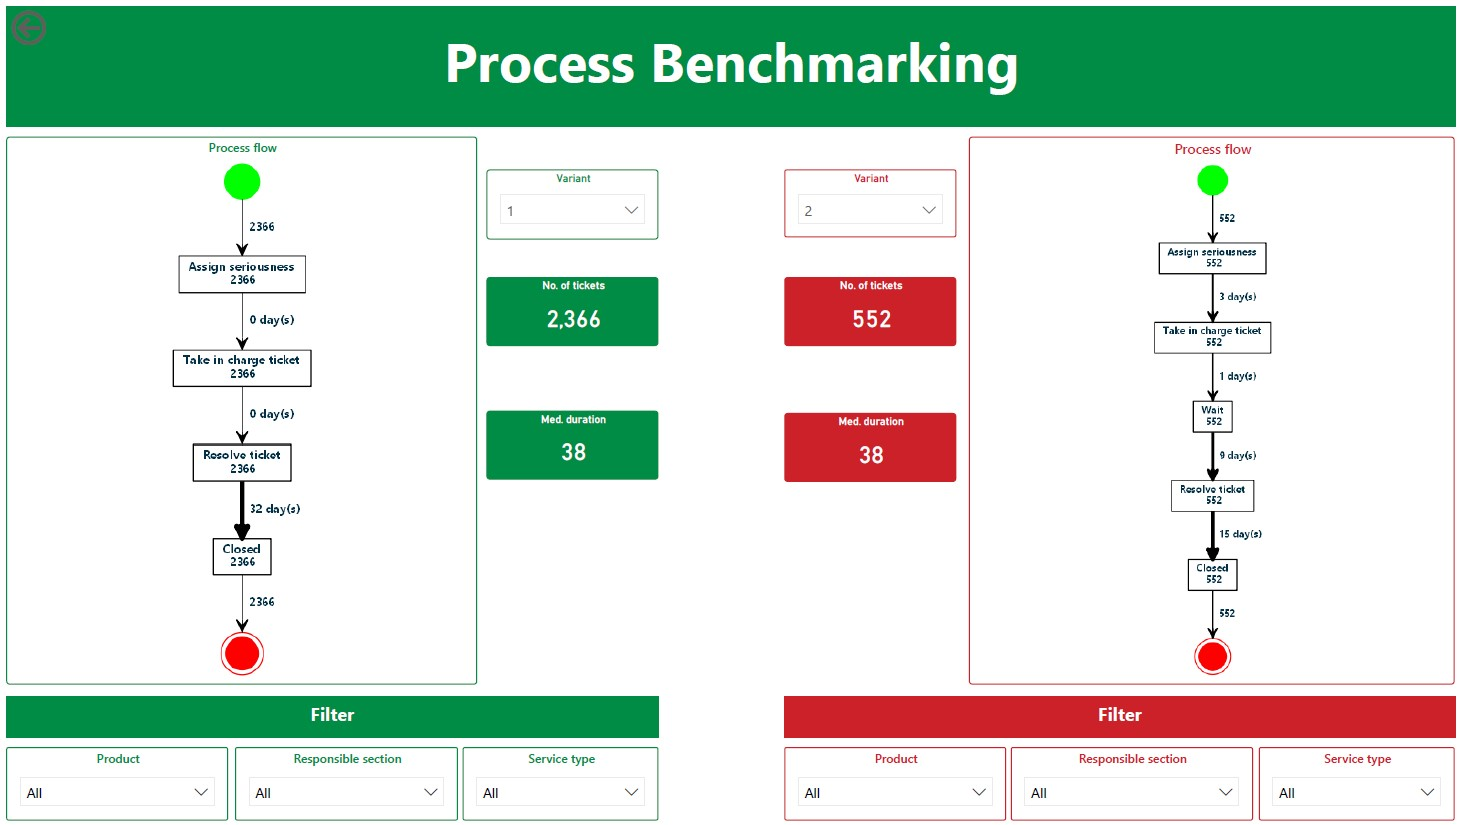

This screenshot's page, from the dashboard's own definition file:
{"tool":"powerbi","page":{"name":"Process benchmarking","canvas":[1280,720],"ordinal":4},"visuals":[{"type":"shape","box":[0,0.9,1280,106],"z":0},{"type":"textbox","box":[299.1,11.2,682.7,86.2],"z":1000},{"type":"card","title":"No. of tickets","fields":{"Values":["CountNonNull(Distinct_log (2).Case ID)"]},"box":[424.2,239.6,151.6,61.1],"z":2000},{"type":"card","title":"Med. duration","fields":{"Values":["Median(Distinct_log (2).Case_Duration_days)"]},"box":[424.2,319,151.6,61.1],"z":3000},{"type":"pythonVisual","title":"Process flow","fields":{"Values":["Helpdesk_log.Case ID","Helpdesk_log.Complete Timestamp","Helpdesk_log.Activity","Helpdesk_log.Event_ID"]},"box":[0,116.5,416.4,483.3],"z":4000},{"type":"slicer","title":"Variant","fields":{"Values":["Distinct_log (2).Variants"]},"box":[424.2,145.5,151.6,61.1],"z":5000},{"type":"slicer","title":"Product","fields":{"Values":["Distinct_log (2).product"]},"box":[0,655.2,195.6,64.8],"z":6000},{"type":"slicer","title":"Responsible section","fields":{"Values":["Distinct_log (2).responsible_section"]},"box":[201.7,655.2,196.8,64.8],"z":7000},{"type":"slicer","title":"Service type","fields":{"Values":["Distinct_log (2).service_type"]},"box":[403.4,655.2,172.4,64.8],"z":8000},{"type":"actionButton","box":[0,0,100.1,39.7],"z":9000},{"type":"card","title":"No. of tickets","fields":{"Values":["CountNonNull(Distinct_log (2).Case ID)"]},"box":[687,239.6,151.6,61.1],"z":10000},{"type":"card","title":"Med. duration","fields":{"Values":["Median(Distinct_log (2).Case_Duration_days)"]},"box":[687,318.8,151.7,61.2],"z":11000},{"type":"pythonVisual","title":"Process flow","fields":{"Values":["Helpdesk_log.Case ID","Helpdesk_log.Complete Timestamp","Helpdesk_log.Activity","Helpdesk_log.Event_ID"]},"box":[850.1,116.5,428.8,483.3],"z":12000},{"type":"slicer","title":"Variant","fields":{"Values":["Distinct_log (2).Variants"]},"box":[687,145.5,151.6,59.9],"z":13000},{"type":"slicer","title":"Product","fields":{"Values":["Distinct_log (2).product"]},"box":[687,655.2,195.6,64.8],"z":14000},{"type":"slicer","title":"Responsible section","fields":{"Values":["Distinct_log (2).responsible_section"]},"box":[887.5,655.2,213.9,64.8],"z":15000},{"type":"slicer","title":"Service type","fields":{"Values":["Distinct_log (2).service_type"]},"box":[1106.3,655.2,172.4,64.8],"z":16000},{"type":"textbox","box":[0,610,575.8,36.7],"z":17000},{"type":"textbox","box":[687,610,592.9,36.7],"z":18000},{"type":"card","title":"FCR rate","fields":{"Values":["Helpdesk_log.FCR_rate"]},"box":[424.2,398.5,151.6,62.3],"z":19000},{"type":"card","title":"FCR rate","fields":{"Values":["Helpdesk_log.FCR_rate"]},"box":[687,398.5,151.6,62.3],"z":20000},{"type":"card","title":"SLA breach rate","fields":{"Values":["Distinct_log.SLA_Breach_rate"]},"box":[424.2,478,151.6,62.3],"z":21000},{"type":"card","title":"SLA breach rate","fields":{"Values":["Distinct_log.SLA_Breach_rate"]},"box":[687,478,151.6,62.3],"z":22000}]}

Visuals, with their boxes in screenshot pixels (x1, y1, x2, y2), scaled from the page's 1280x720 canvas onto the 1460x825 screenshot:
shape: bbox=(0, 1, 1459, 122)
textbox: bbox=(341, 13, 1120, 112)
"No. of tickets" card: bbox=(484, 275, 657, 345)
"Med. duration" card: bbox=(484, 366, 657, 436)
"Process flow" pythonVisual: bbox=(0, 133, 475, 687)
"Variant" slicer: bbox=(484, 167, 657, 237)
"Product" slicer: bbox=(0, 751, 223, 824)
"Responsible section" slicer: bbox=(230, 751, 455, 824)
"Service type" slicer: bbox=(460, 751, 657, 824)
actionButton: bbox=(0, 0, 114, 45)
"No. of tickets" card: bbox=(784, 275, 957, 345)
"Med. duration" card: bbox=(784, 365, 957, 435)
"Process flow" pythonVisual: bbox=(970, 133, 1459, 687)
"Variant" slicer: bbox=(784, 167, 957, 235)
"Product" slicer: bbox=(784, 751, 1007, 824)
"Responsible section" slicer: bbox=(1012, 751, 1256, 824)
"Service type" slicer: bbox=(1262, 751, 1459, 824)
textbox: bbox=(0, 699, 657, 741)
textbox: bbox=(784, 699, 1459, 741)
"FCR rate" card: bbox=(484, 457, 657, 528)
"FCR rate" card: bbox=(784, 457, 957, 528)
"SLA breach rate" card: bbox=(484, 548, 657, 619)
"SLA breach rate" card: bbox=(784, 548, 957, 619)
